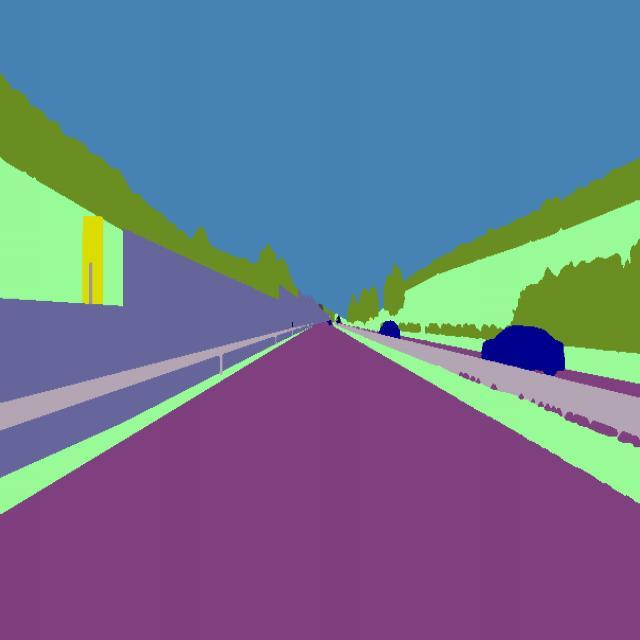safe: (482, 322, 566, 377), (379, 316, 404, 344)
